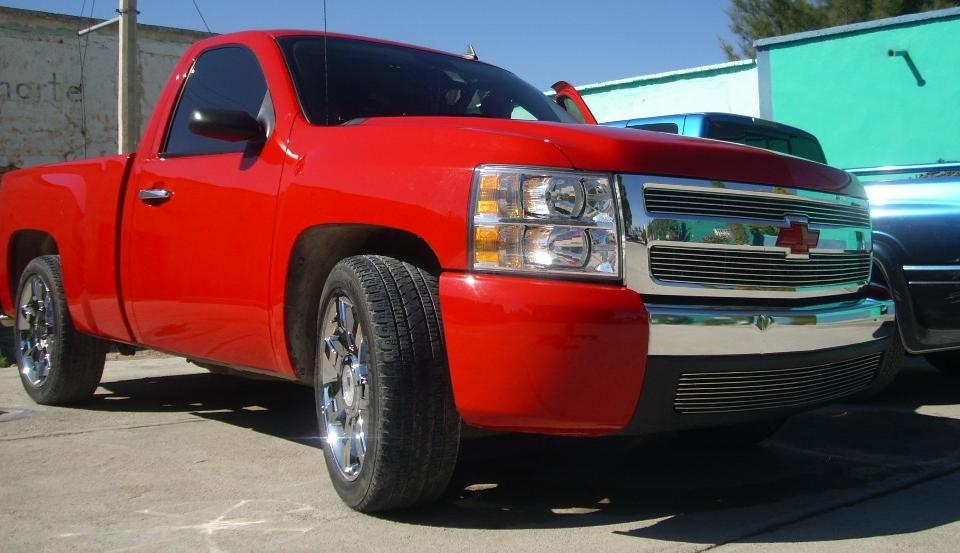front_view: (463, 144, 901, 416)
headlight: (473, 157, 635, 290)
side_glass: (157, 35, 296, 160)
